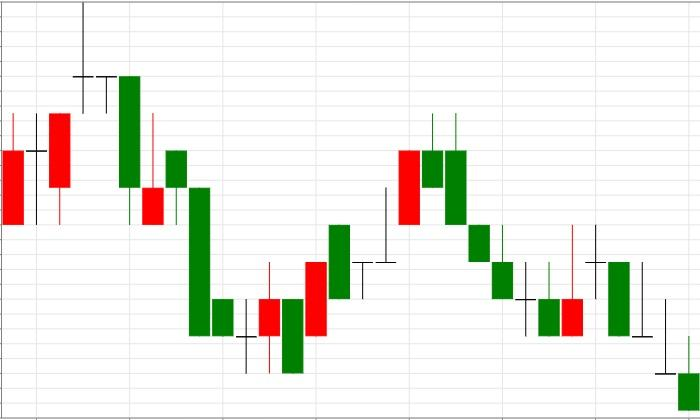inverse_hammer_rise: (422, 114, 583, 336), (72, 2, 164, 225)
morning_star_rise: (165, 151, 279, 375)
